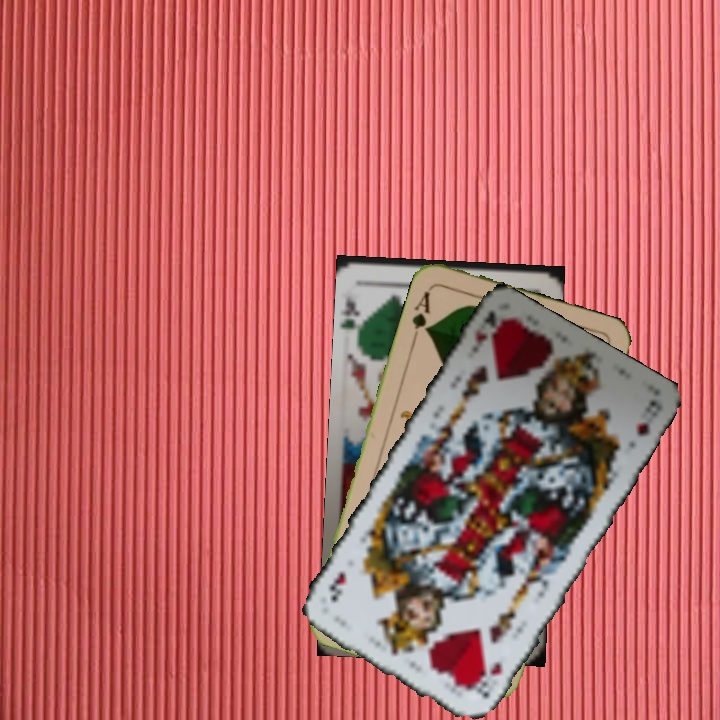GA: (408, 285, 434, 343)
GK: (340, 293, 367, 340)
HK: (466, 305, 506, 354), (472, 657, 505, 702)
